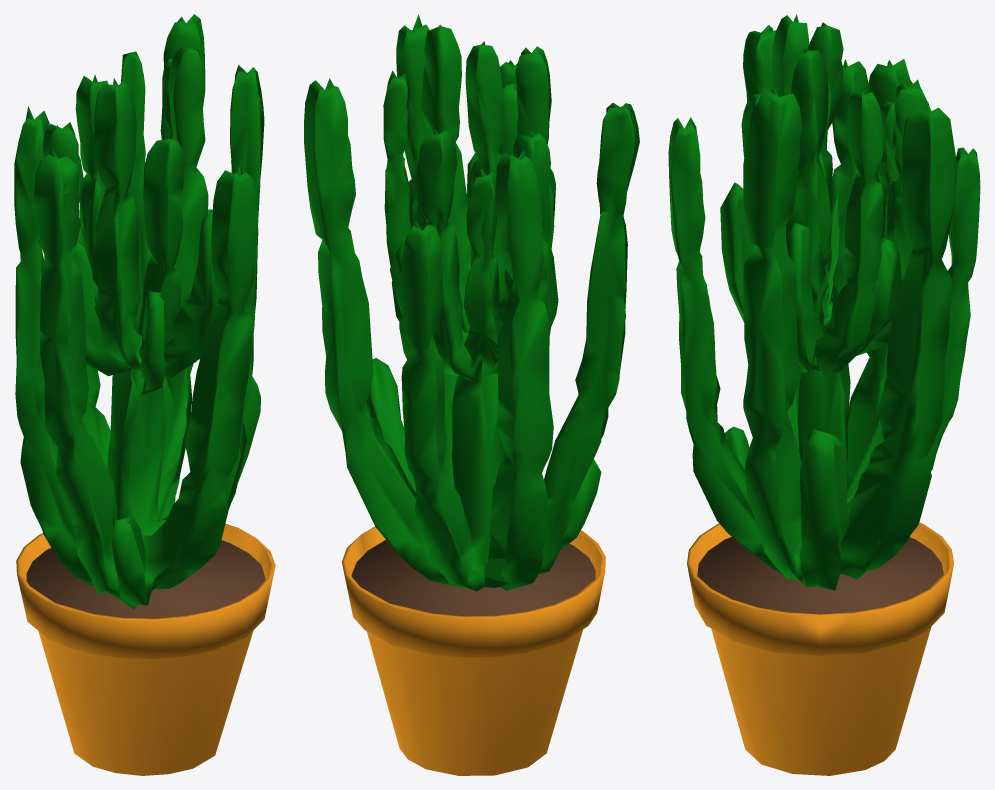
The model's file is simple-cactus.fbx.
3 views of the same model, side by side, from view 1: azimuth 30°, elevation 25°; view 2: azimuth 150°, elevation 25°; view 3: azimuth 270°, elevation 25° (orthographic). The views are drawn at different scales.
Parts seen in each view (by area): view 1: succulent_euphorbia_obj; view 2: succulent_euphorbia_obj; view 3: succulent_euphorbia_obj.
Part boxes in pixels (x1,y1,x2,y2): succulent_euphorbia_obj: (14, 14, 275, 775); succulent_euphorbia_obj: (304, 14, 639, 775); succulent_euphorbia_obj: (668, 14, 980, 775).
Bounding box in the file's own units: 572 × 1528 × 606.
